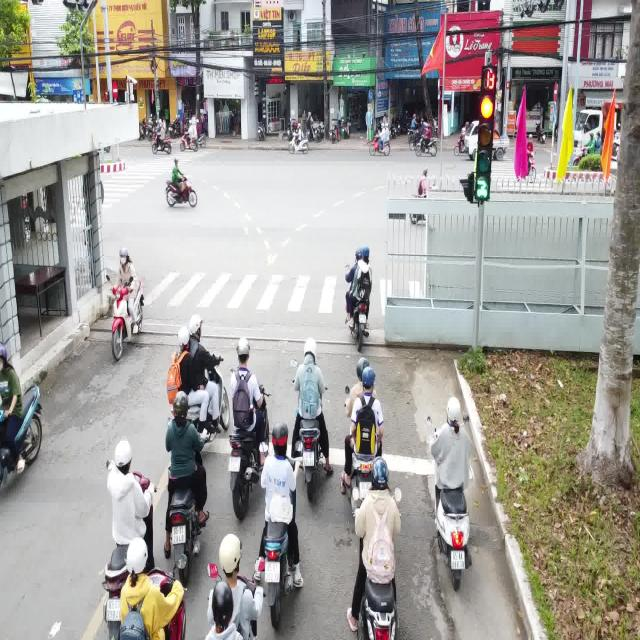Red: (476, 65, 497, 174)
